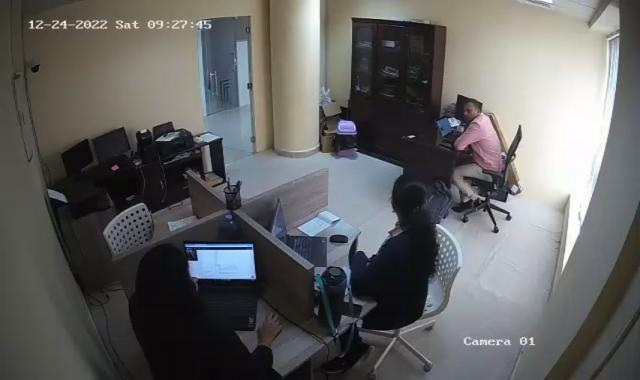no_hairnet: (141, 244, 192, 301), (388, 172, 431, 222), (460, 99, 480, 121)
